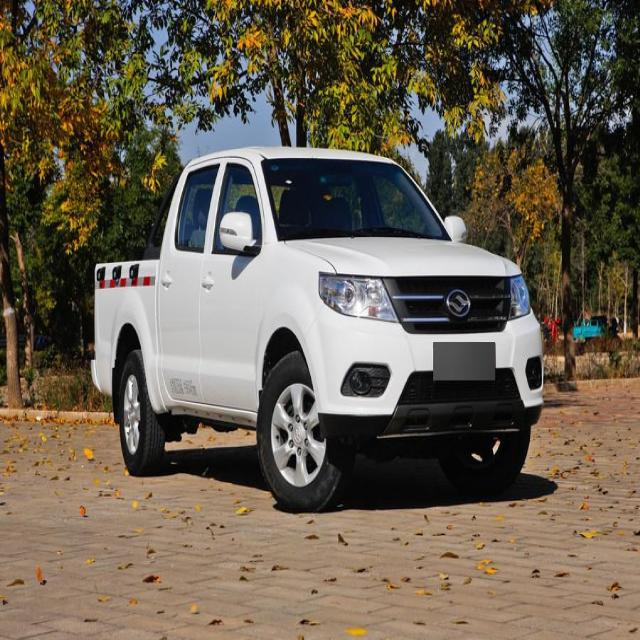door: (163, 157, 226, 398)
front_bumper: (302, 305, 544, 439)
front_glass: (262, 157, 451, 241)
front_left_side_light: (507, 272, 533, 322)
front_left_side_mirror: (445, 212, 469, 244)
front_right_side_door: (198, 152, 268, 428)
front_right_side_light: (319, 270, 399, 324)
front_right_side_mirror: (220, 211, 257, 259)
wheel: (257, 351, 349, 511), (118, 351, 165, 474)
